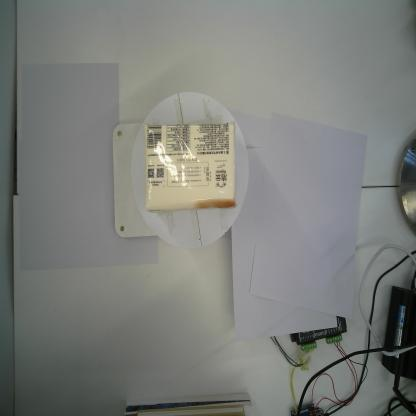Tissue: (144, 120, 236, 214)
